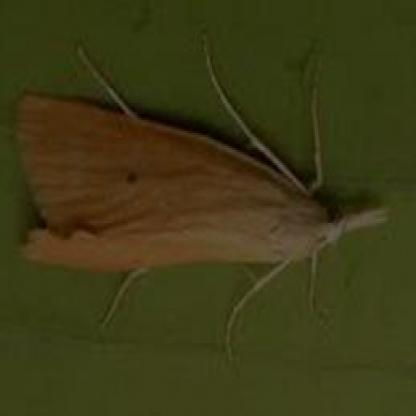stem-borer: (15, 31, 390, 366)
